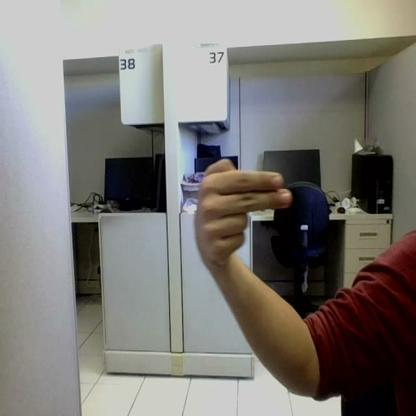H: (196, 159, 292, 263)
